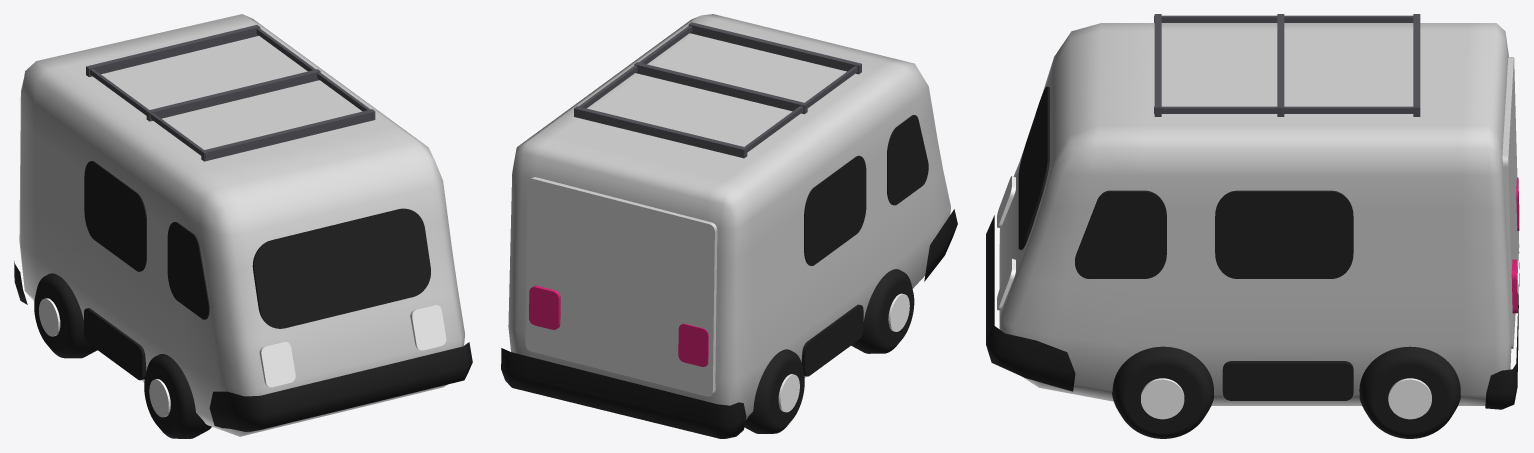
Rendered from van.glb.
The picture shows the model from 3 angles, left to right: view 1: azimuth 30°, elevation 25°; view 2: azimuth 150°, elevation 25°; view 3: azimuth 270°, elevation 25°; orthographic projection. The views are drawn at different scales.
Parts seen in each view (by area): view 1: body, Front Window, bumper, Ellipse 3 (×4), Rectangle (×2), Rectangle 2 (×2), Rectangle 3 (×2), Headlight 2, Headlight, Rectangle 6, Rectangle 5; view 2: body, back door, rear bumper, Ellipse 3 (×4), Rectangle (×2), Rectangle 2 (×2), Rectangle 3 (×2), Headlight 2, Headlight, Rectangle 6, bumper, Rectangle 5; view 3: body, Rectangle 2 (×3), Rectangle (×2), Ellipse 2 (×2), Ellipse (×2), bumper, Front Window, back door, Rectangle 6, Rectangle 5, rear bumper, Rectangle 3.
Part boxes in pixels (x1,y1,x2,y2): body: (19,14,464,436); Front Window: (252,208,430,328); bumper: (209,342,472,431); Ellipse 3 (×4): (34,273,211,438); Rectangle (×2): (84,109,375,271); Rectangle 2 (×2): (146,69,320,319); Rectangle 3 (×2): (84,25,260,380); Headlight 2: (410,305,446,350); Headlight: (259,341,295,387); Rectangle 6: (90,69,208,158); Rectangle 5: (256,28,375,118); body: (508,14,950,419); back door: (525,177,717,396); rear bumper: (501,348,746,438); Ellipse 3 (×4): (744,269,914,433); Rectangle (×2): (688,22,866,265); Rectangle 2 (×2): (634,62,928,205); Rectangle 3 (×2): (574,106,863,376); Headlight 2: (529,285,560,329); Headlight: (678,323,708,366); Rectangle 6: (744,66,857,152); bumper: (924,209,957,281); Rectangle 5: (579,25,692,108); body: (999,23,1511,405); Rectangle 2 (×3): (1075,14,1353,400); Rectangle (×2): (1154,14,1353,278); Ellipse 2 (×2): (1359,346,1460,438); Ellipse (×2): (1112,346,1213,438); bumper: (986,215,1075,391); Front Window: (1018,86,1049,249); back door: (1502,57,1519,348); Rectangle 6: (1154,15,1413,22); Rectangle 5: (1154,106,1413,113); rear bumper: (1485,252,1519,409); Rectangle 3: (1413,14,1420,116).
Size of the model in its own units: 1.92 by 1.99 by 3.06.
